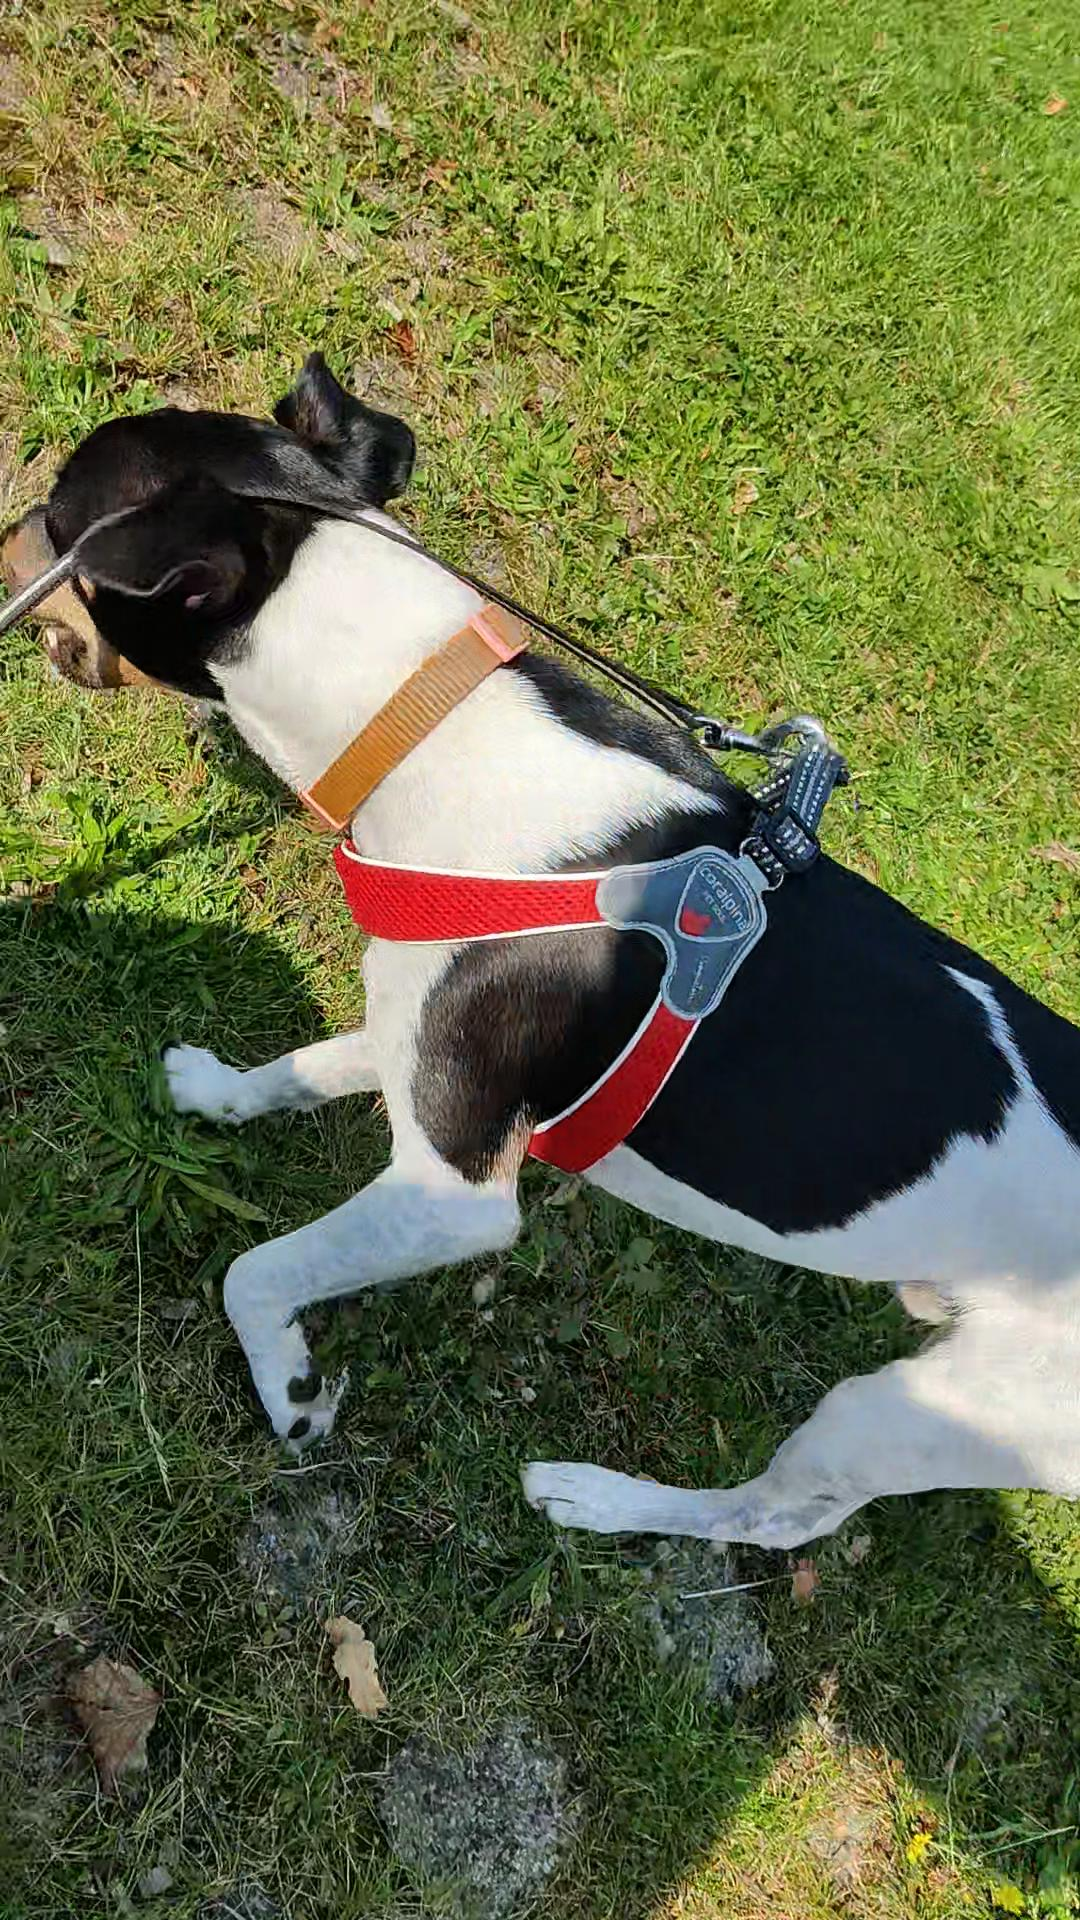Dog: (0, 338, 1079, 1568)
